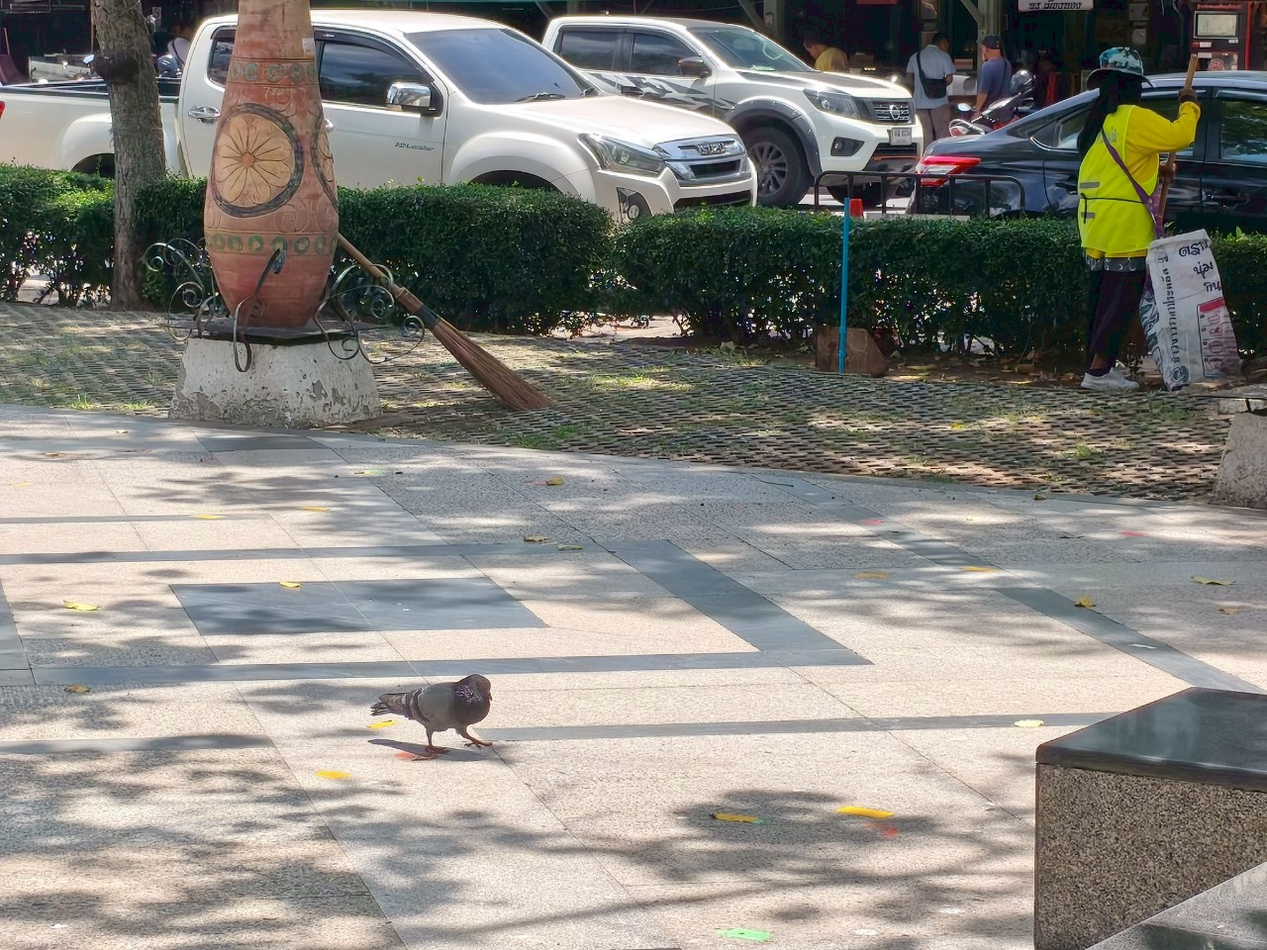Pigeon: (371, 674, 491, 758)
